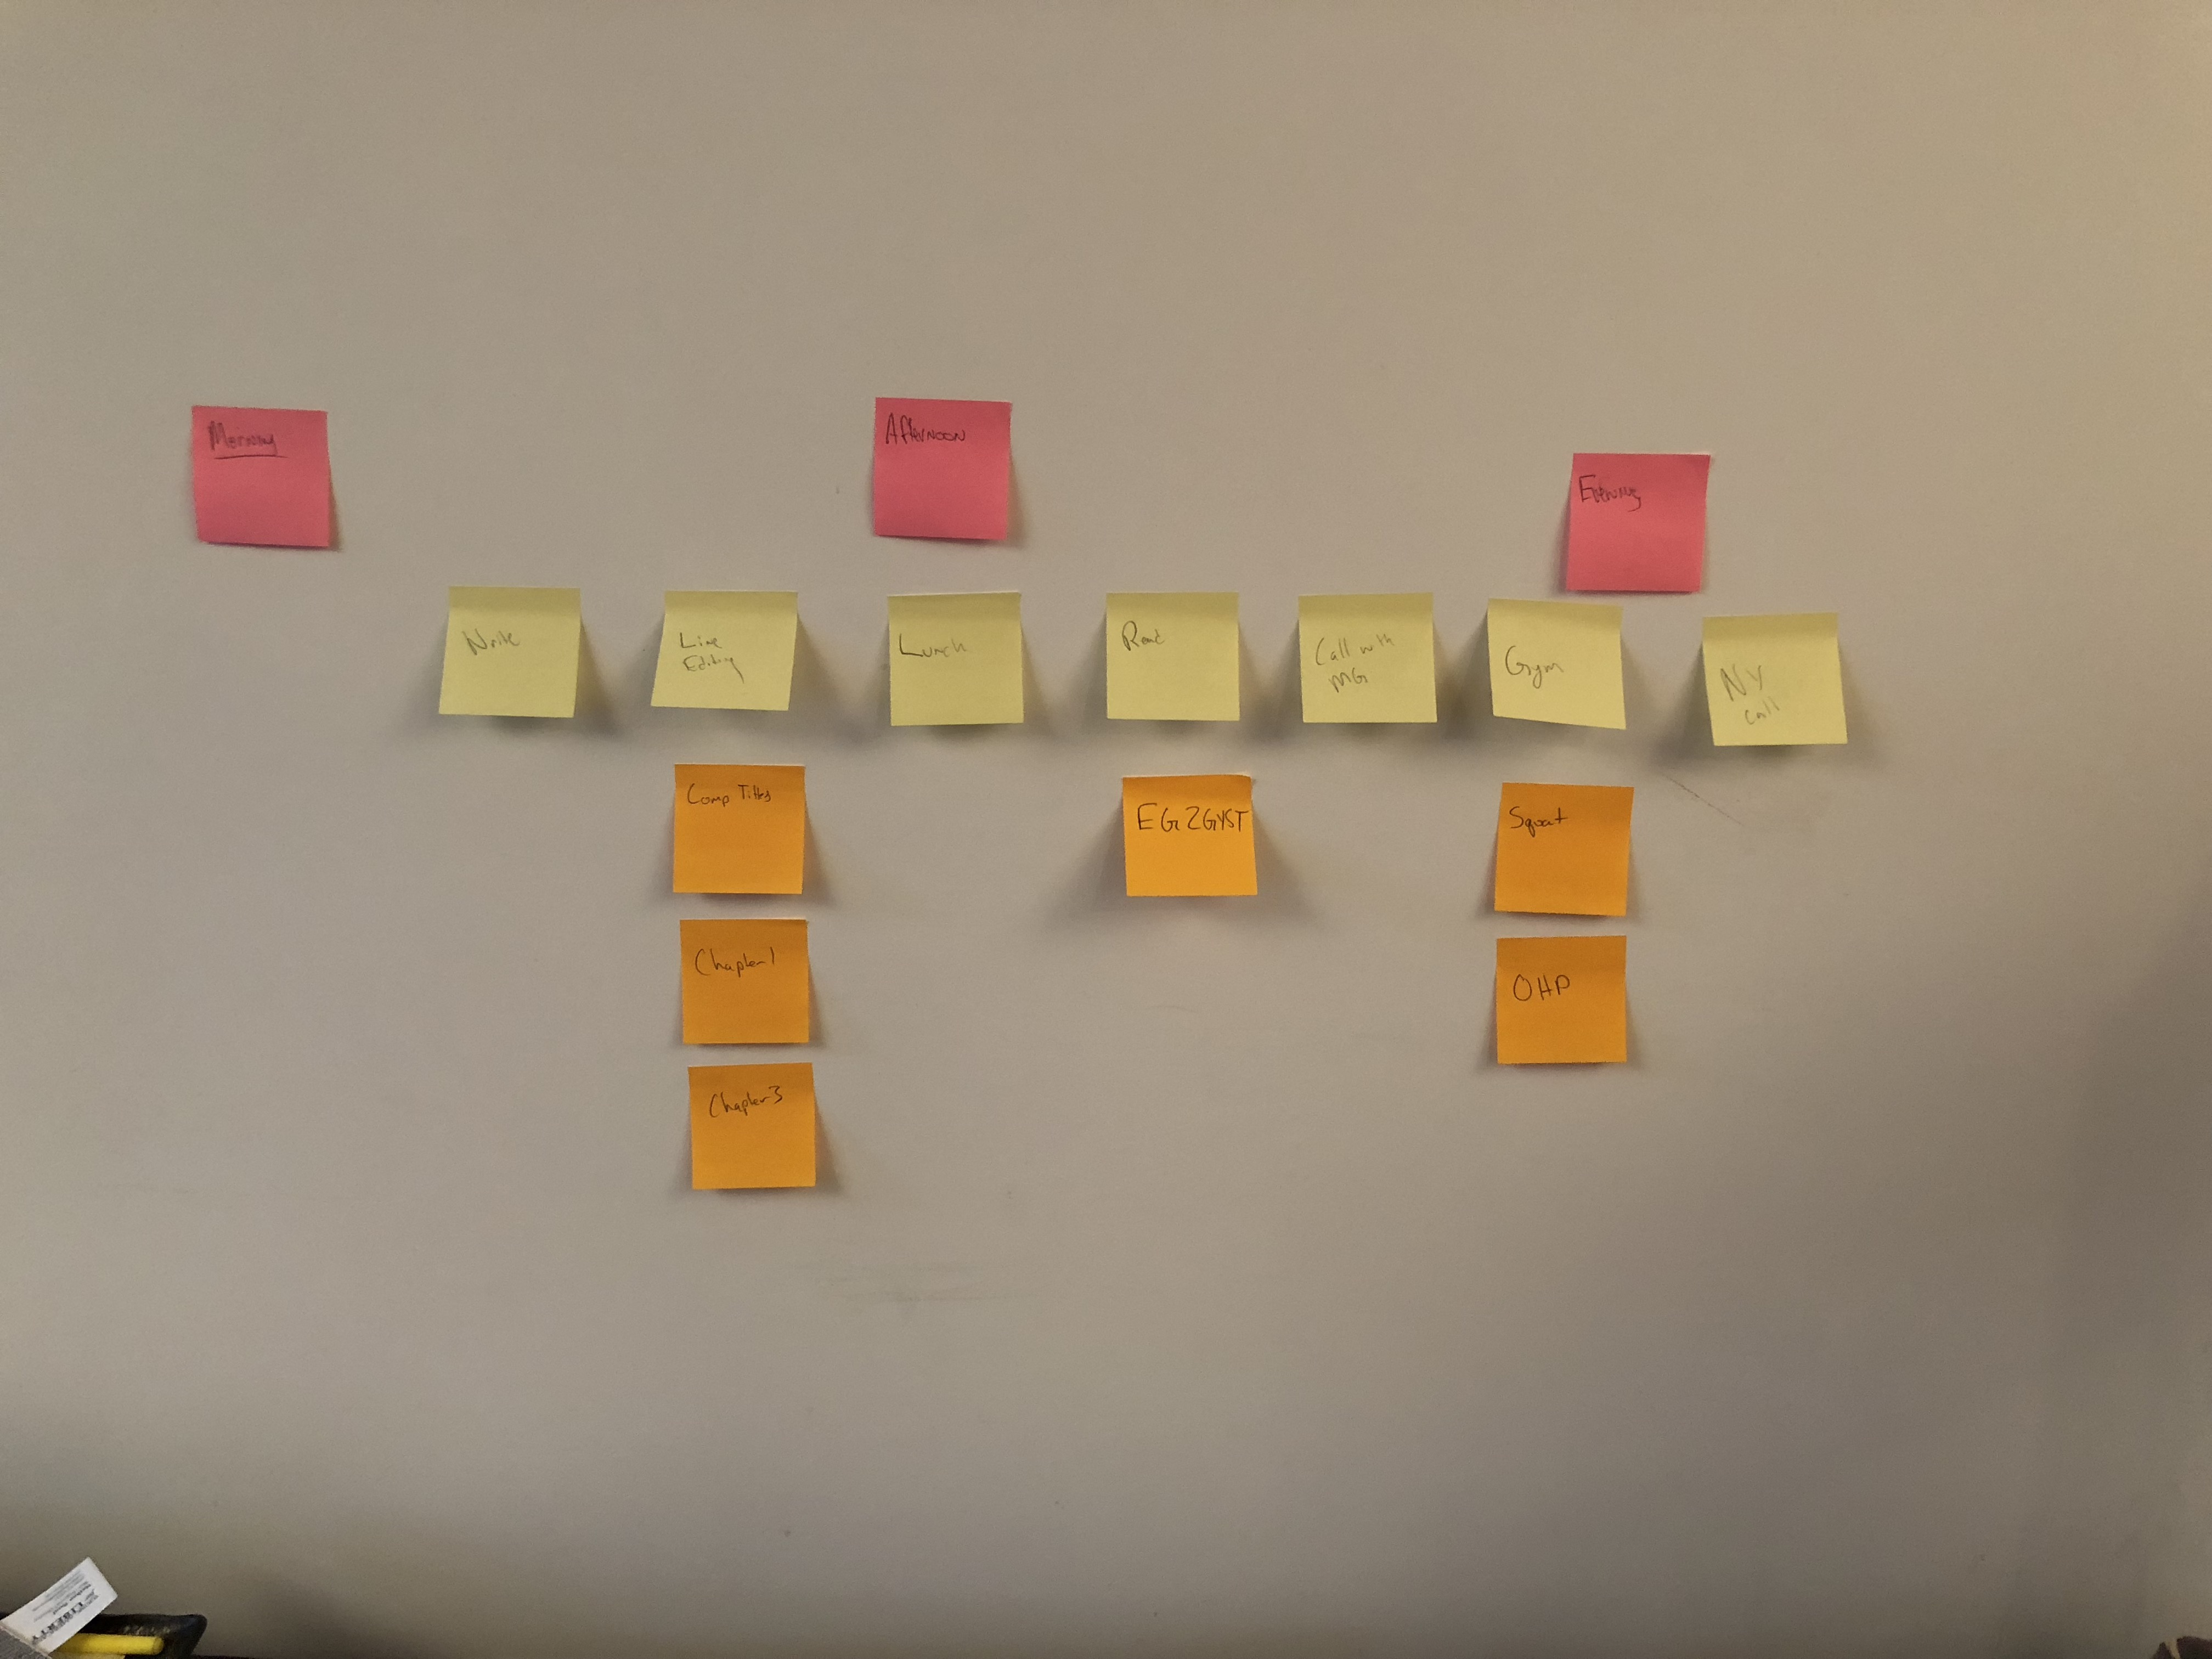stickynote: (173, 396, 349, 565), (430, 572, 601, 741), (654, 747, 827, 912), (1097, 572, 1257, 747), (867, 385, 1031, 552), (1554, 436, 1712, 605), (661, 910, 836, 1059), (1286, 585, 1451, 743), (641, 580, 808, 736), (1699, 609, 1863, 763), (1479, 585, 1637, 745), (1108, 756, 1273, 910), (876, 587, 1036, 741), (667, 1057, 838, 1199), (1488, 771, 1641, 929), (1492, 925, 1648, 1074)
